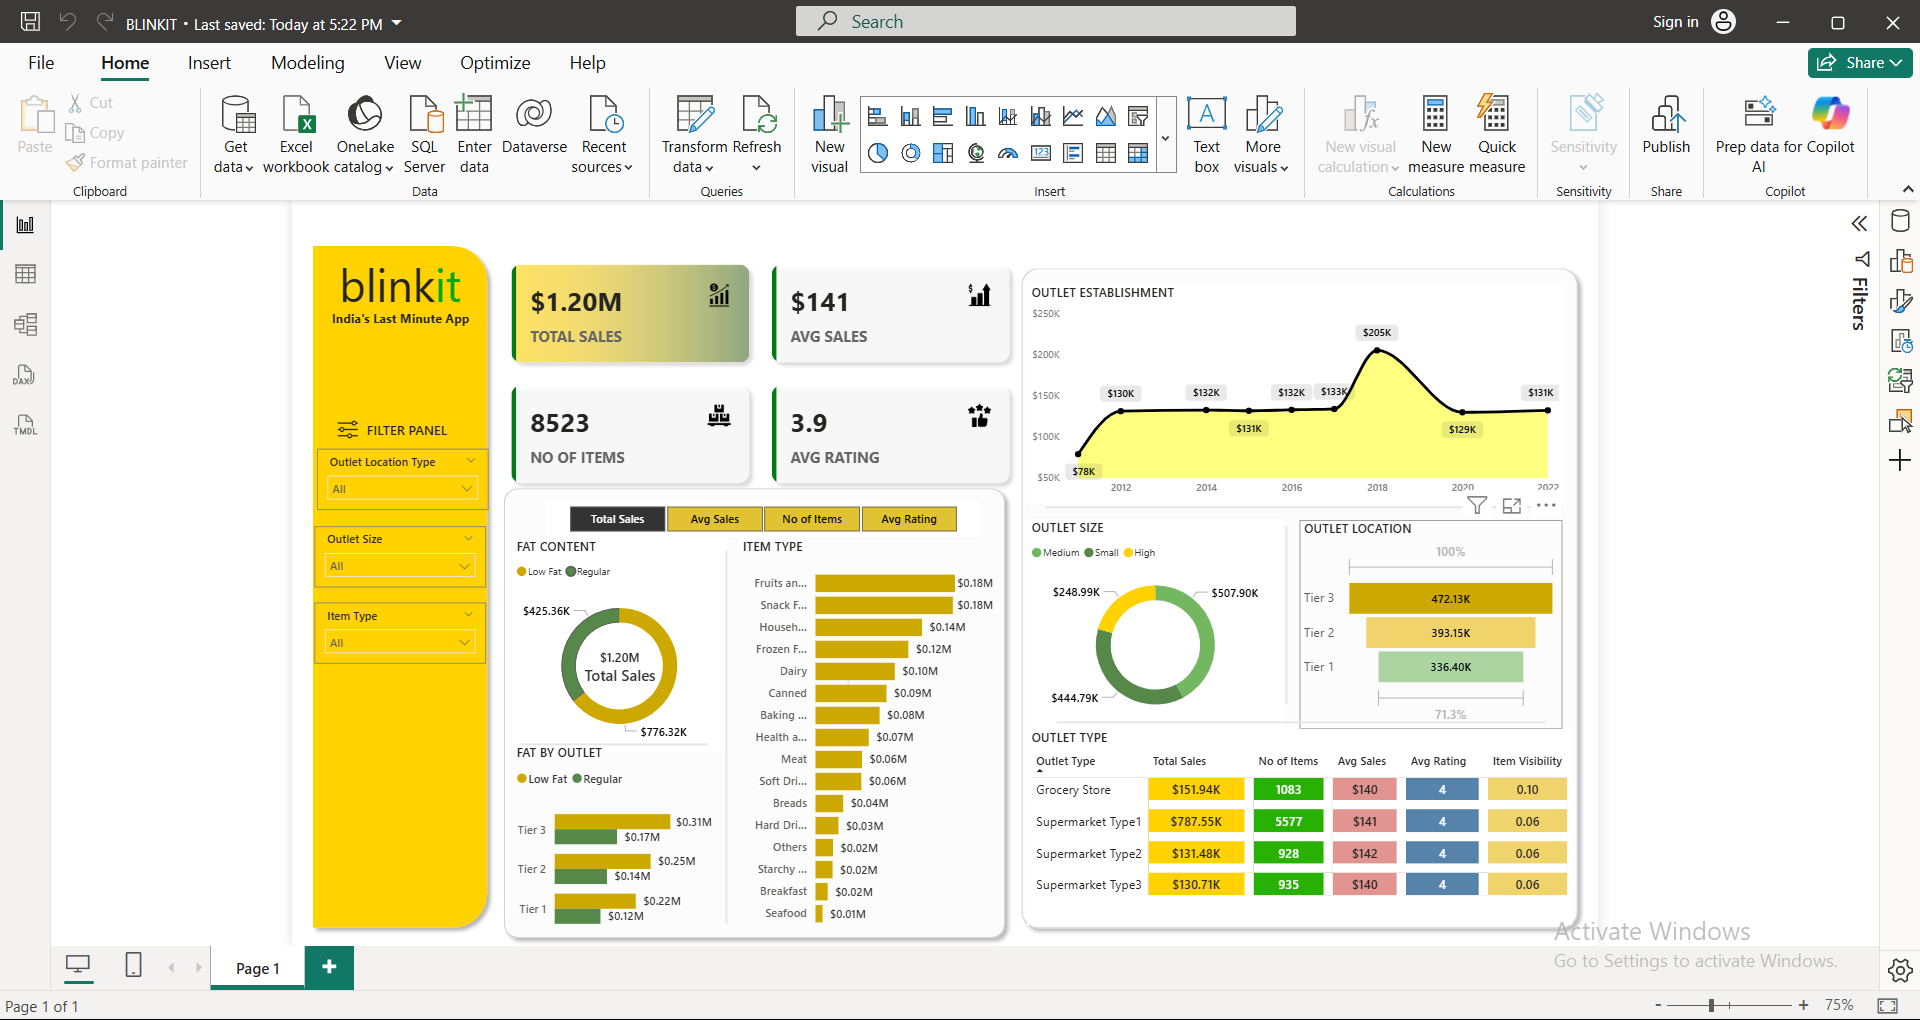

The page's visual inventory and layout, read from the dashboard file:
{"tool":"powerbi","page":{"name":"Page 1","canvas":[1400,800],"ordinal":0},"visuals":[{"type":"shape","box":[13.4,40.2,205.1,749.3],"z":0},{"type":"textbox","box":[26.8,52.3,178.3,75.1],"z":1000},{"type":"textbox","box":[6.7,112.6,219.8,29.5],"z":2000},{"type":"cardVisual","fields":{"Data":["BlinkIT Grocery Data.Total Sales","BlinkIT Grocery Data.Avg Sales","BlinkIT Grocery Data.No of Items","BlinkIT Grocery Data.Avg Rating"]},"box":[218.5,52.3,569.7,269.4],"z":3000},{"type":"shape","box":[218.5,300.3,555,500],"z":4000},{"type":"donutChart","title":"FAT CONTENT","fields":{"Y":["BlinkIT Grocery Data.Total Sales"],"Category":["BlinkIT Grocery Data.Item Fat Content"]},"box":[235.9,361.9,230.6,230.6],"z":5000},{"type":"slicer","fields":{"Values":["MATRIX.MATRIX"]},"box":[272.1,321.7,465.1,40.2],"z":6000},{"type":"cardVisual","fields":{"Data":["BlinkIT Grocery Data.Total Sales"]},"box":[292.2,463.8,119.3,61.7],"z":7000},{"type":"clusteredBarChart","title":"FAT BY OUTLET","fields":{"Y":["BlinkIT Grocery Data.Total Sales"],"Category":["BlinkIT Grocery Data.Outlet Location Type"],"Series":["BlinkIT Grocery Data.Item Fat Content"]},"box":[235.9,583.1,219.8,217.2],"z":8000},{"type":"shape","box":[245.3,577.8,201.1,12.1],"z":9000},{"type":"shape","box":[496,513.4,201.1,12.1],"z":10000},{"type":"shape","box":[453.1,375.3,25.5,400.8],"z":11000},{"type":"barChart","title":"ITEM TYPE","fields":{"Y":["BlinkIT Grocery Data.Total Sales"],"Category":["BlinkIT Grocery Data.Item Type"]},"box":[478.6,361.9,278.8,427.6],"z":12000},{"type":"shape","box":[772.9,64.3,614.3,725.7],"z":13000},{"type":"lineChart","title":"OUTLET ESTABLISHMENT","fields":{"Y":["BlinkIT Grocery Data.Total Sales"],"Category":["BlinkIT Grocery Data.Outlet Establishment Year"]},"box":[788.6,90,575.7,235.7],"z":14000},{"type":"shape","box":[808.6,322.9,524.3,12.9],"z":15000},{"type":"donutChart","title":"OUTLET SIZE","fields":{"Y":["BlinkIT Grocery Data.Total Sales"],"Category":["BlinkIT Grocery Data.Outlet Size"]},"box":[788.6,341.4,275.7,225.7],"z":16000},{"type":"shape","box":[1054.3,350,25.7,190],"z":17000},{"type":"funnel","title":"OUTLET LOCATION","fields":{"Y":["Sum(BlinkIT Grocery Data.Sales)"],"Category":["BlinkIT Grocery Data.Outlet Location Type"]},"box":[1080,342.9,281.4,224.3],"z":18000},{"type":"shape","box":[804.3,575.7,524.3,12.9],"z":19000},{"type":"pivotTable","title":"OUTLET TYPE","fields":{"Rows":["BlinkIT Grocery Data.Outlet Type"],"Values":["BlinkIT Grocery Data.Total Sales","BlinkIT Grocery Data.No of Items","BlinkIT Grocery Data.Avg Sales","BlinkIT Grocery Data.Avg Rating","Avg(BlinkIT Grocery Data.Item Visibility)"]},"box":[788.6,567.1,585,210],"z":20000},{"type":"shape","box":[820,554.3,524.3,12.9],"z":21000},{"type":"slicer","fields":{"Values":["BlinkIT Grocery Data.Outlet Location Type"]},"box":[26.8,266.8,183.6,65.7],"z":22000},{"type":"slicer","fields":{"Values":["BlinkIT Grocery Data.Outlet Size"]},"box":[24.1,349.9,183.6,65.7],"z":23000},{"type":"slicer","fields":{"Values":["BlinkIT Grocery Data.Item Type"]},"box":[24.1,431.6,183.6,65.7],"z":24000},{"type":"textbox","box":[13.4,231.9,219.8,29.5],"z":25000},{"type":"image","box":[37.5,225.2,44.2,41.6],"z":25001}]}

Visuals, with their boxes on the page's 1400x800 design canvas (x1, y1, x2, y2). These are canvas units, not pixel positions in the 1920x1020 screenshot, which may show the page scaled, cropped or inside an application window:
shape: detection(13, 40, 218, 790)
textbox: detection(27, 52, 205, 127)
textbox: detection(7, 113, 226, 142)
cardVisual - BlinkIT Grocery Data.Total Sales x BlinkIT Grocery Data.Avg Sales: detection(218, 52, 788, 322)
shape: detection(218, 300, 774, 800)
"FAT CONTENT" donutChart: detection(236, 362, 466, 592)
slicer - MATRIX.MATRIX: detection(272, 322, 737, 362)
cardVisual - BlinkIT Grocery Data.Total Sales: detection(292, 464, 412, 526)
"FAT BY OUTLET" clusteredBarChart: detection(236, 583, 456, 800)
shape: detection(245, 578, 446, 590)
shape: detection(496, 513, 697, 526)
shape: detection(453, 375, 479, 776)
"ITEM TYPE" barChart: detection(479, 362, 757, 790)
shape: detection(773, 64, 1387, 790)
"OUTLET ESTABLISHMENT" lineChart: detection(789, 90, 1364, 326)
shape: detection(809, 323, 1333, 336)
"OUTLET SIZE" donutChart: detection(789, 341, 1064, 567)
shape: detection(1054, 350, 1080, 540)
"OUTLET LOCATION" funnel: detection(1080, 343, 1361, 567)
shape: detection(804, 576, 1329, 589)
"OUTLET TYPE" pivotTable: detection(789, 567, 1374, 777)
shape: detection(820, 554, 1344, 567)
slicer - BlinkIT Grocery Data.Outlet Location Type: detection(27, 267, 210, 332)
slicer - BlinkIT Grocery Data.Outlet Size: detection(24, 350, 208, 416)
slicer - BlinkIT Grocery Data.Item Type: detection(24, 432, 208, 497)
textbox: detection(13, 232, 233, 261)
image: detection(38, 225, 82, 267)
